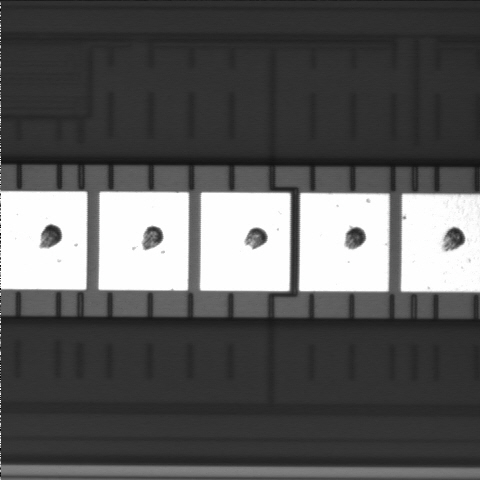pad: (99, 192, 189, 291), (200, 193, 290, 291), (299, 193, 389, 291)
